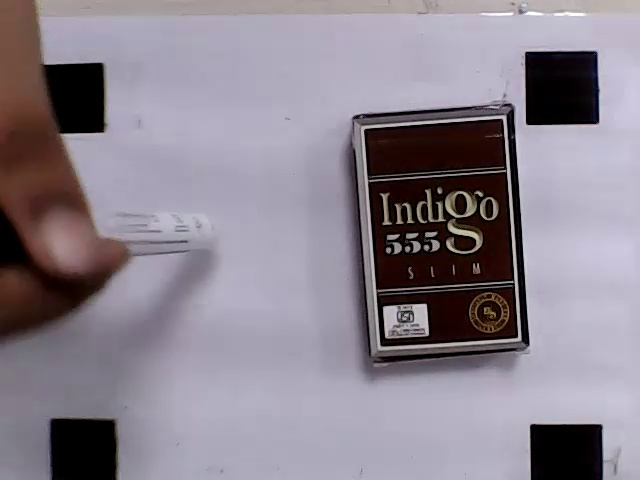BEX: (363, 118, 520, 346)
